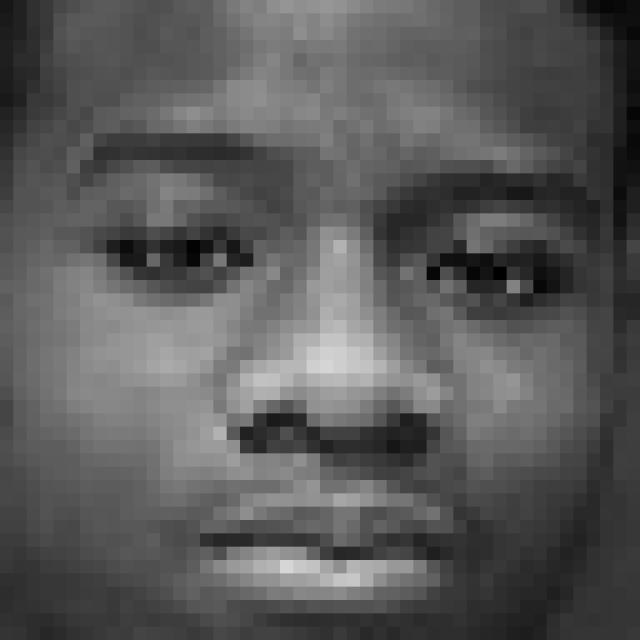neutral: (68, 123, 613, 640)
